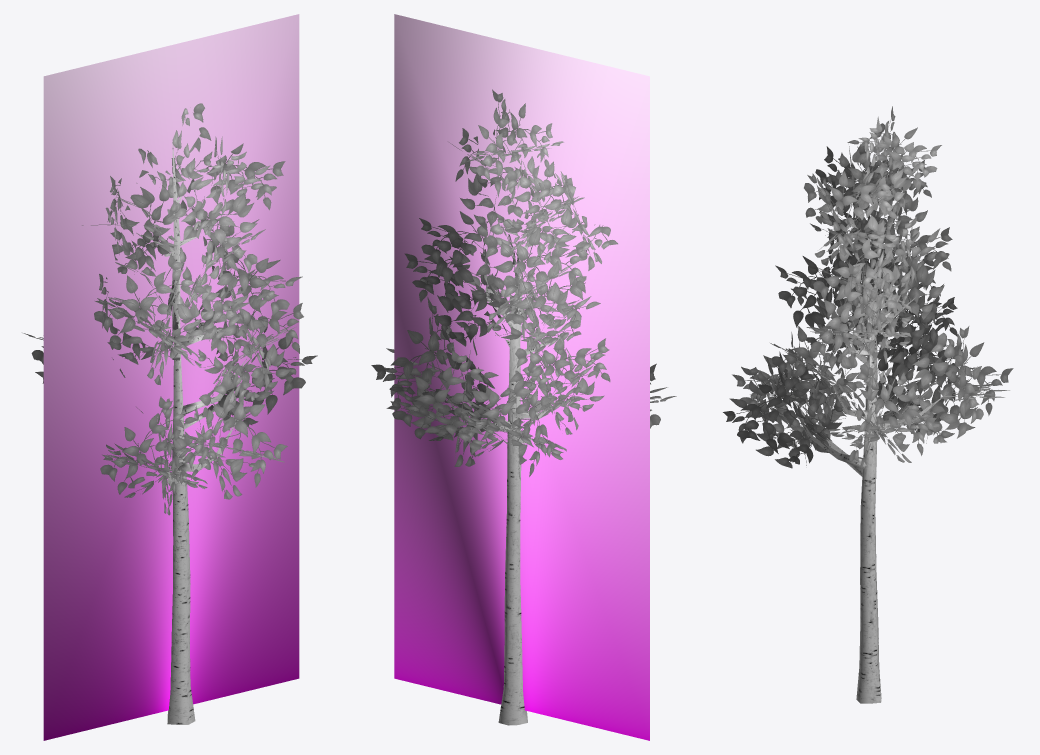
Rendered from Birch_02.fbx.
3 renders of one model, left to right at view 1: azimuth 30°, elevation 25°; view 2: azimuth 150°, elevation 25°; view 3: azimuth 270°, elevation 25°, orthographic. The views are drawn at different scales.
Parts seen in each view (by area): view 1: FAE_Birch_B_Billboard, FAE_Birch_B_LOD0; view 2: FAE_Birch_B_Billboard, FAE_Birch_B_LOD0; view 3: FAE_Birch_B_LOD0.
Part boxes in pixels (x1,y1,x2,y2): FAE_Birch_B_Billboard: (43, 14, 299, 740); FAE_Birch_B_LOD0: (23, 103, 317, 724); FAE_Birch_B_Billboard: (394, 14, 649, 740); FAE_Birch_B_LOD0: (371, 89, 676, 725); FAE_Birch_B_LOD0: (723, 106, 1013, 703).
Size of what is drawn, in the model's own units: 685 by 1619 by 745.
